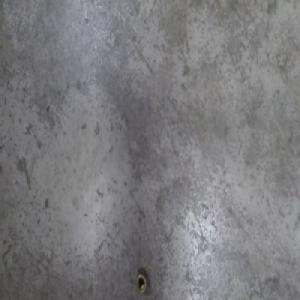Nut: (135, 271, 147, 294)
